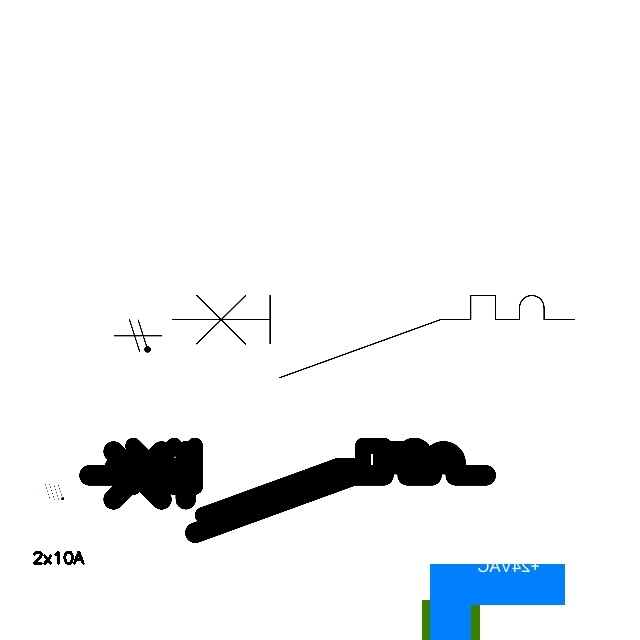interruptor_termomagnetico: (161, 285, 584, 388), (79, 441, 496, 543), (104, 437, 459, 523)
